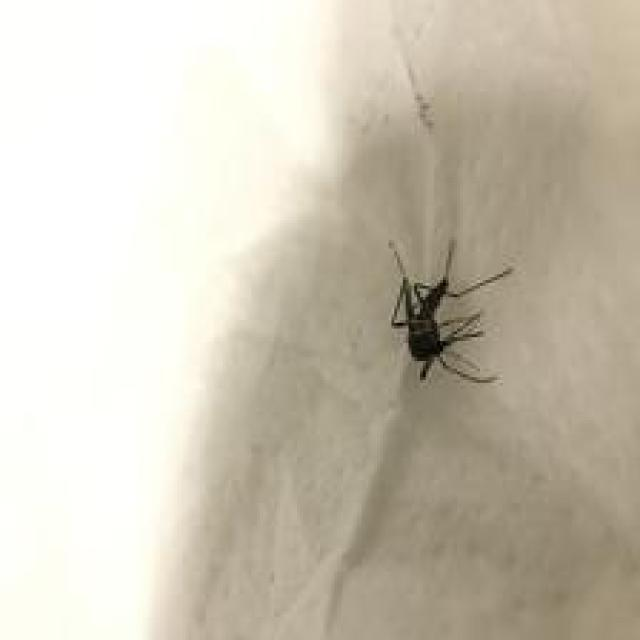Aedes albopictus: (386, 237, 514, 386)
